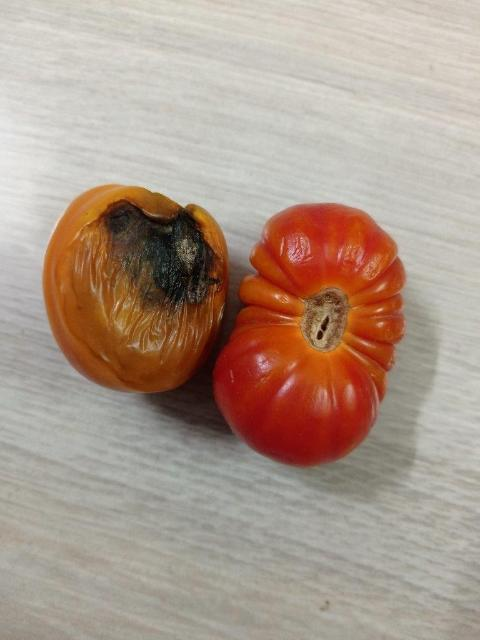defect: (41, 181, 233, 394)
